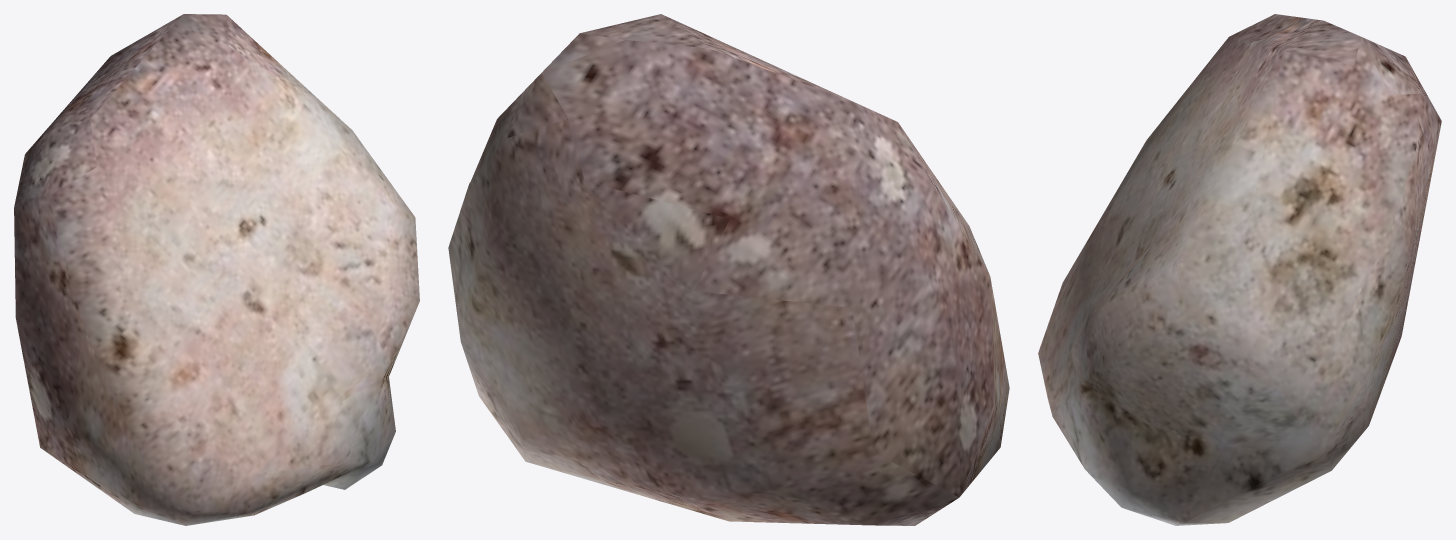
File: rock.glb
3 views of the same model, side by side, from view 1: azimuth 30°, elevation 25°; view 2: azimuth 150°, elevation 25°; view 3: azimuth 270°, elevation 25° (orthographic). The views are drawn at different scales.
Parts seen in each view (by area): view 1: rock080_lod4; view 2: rock080_lod4; view 3: rock080_lod4.
Boxes of the visible parts, x1=… form: rock080_lod4: x1=14, y1=14, x2=419, y2=525; rock080_lod4: x1=448, y1=14, x2=1009, y2=525; rock080_lod4: x1=1038, y1=14, x2=1441, y2=525.
Size of the model in its own units: 1 by 1.04 by 0.8418.
Materials: 1 (1 with a texture image).
